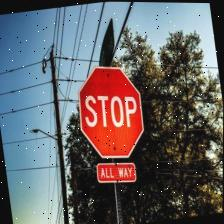Stop: (69, 58, 152, 164)
